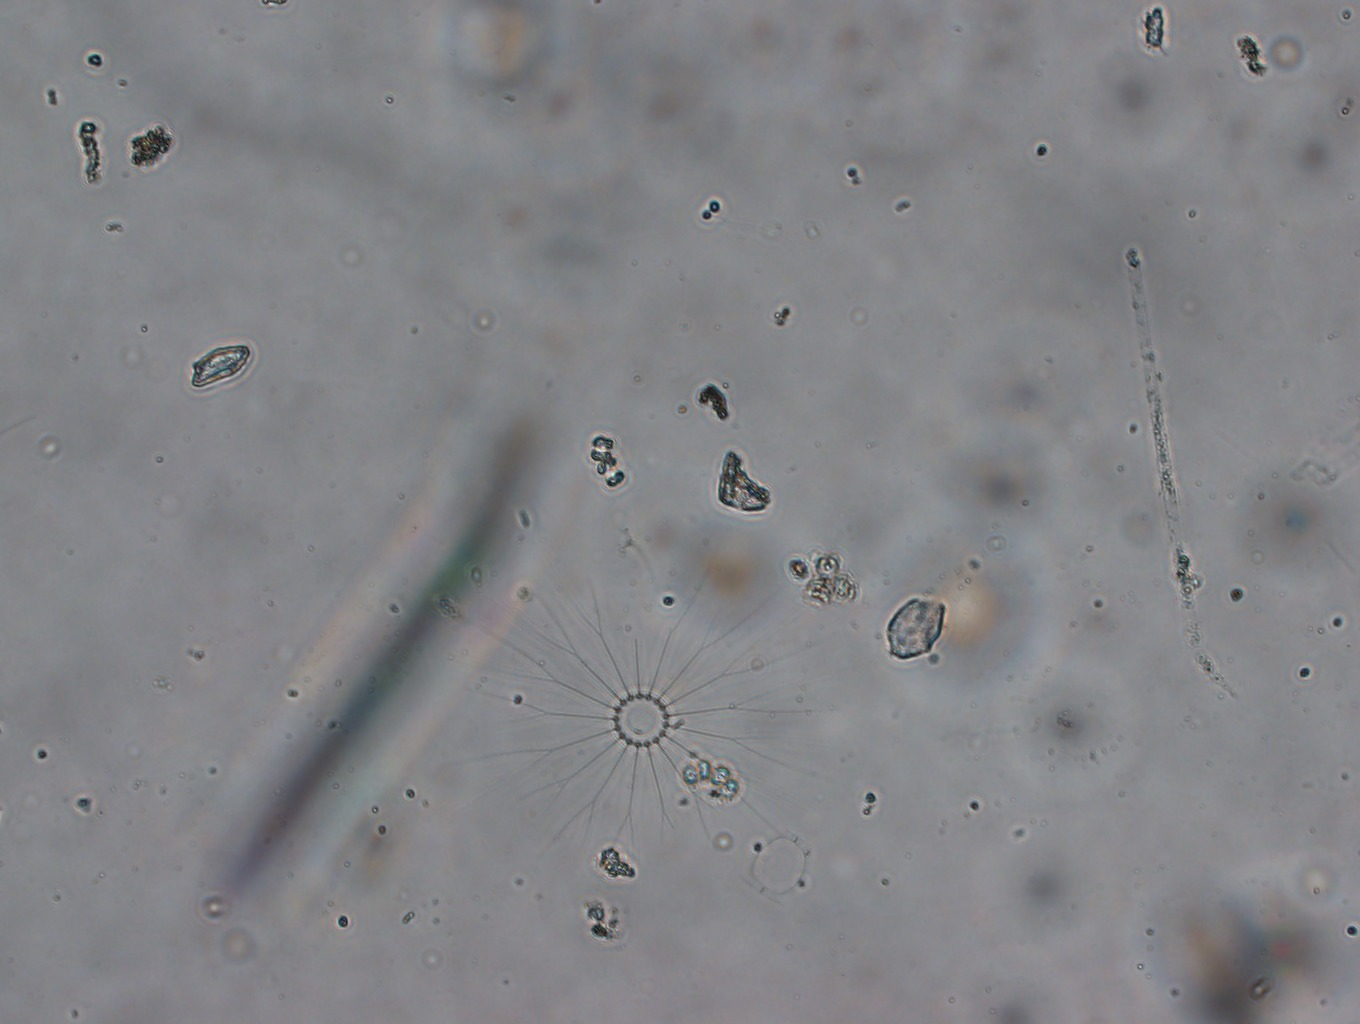bacteriastrum: (468, 558, 811, 867)
